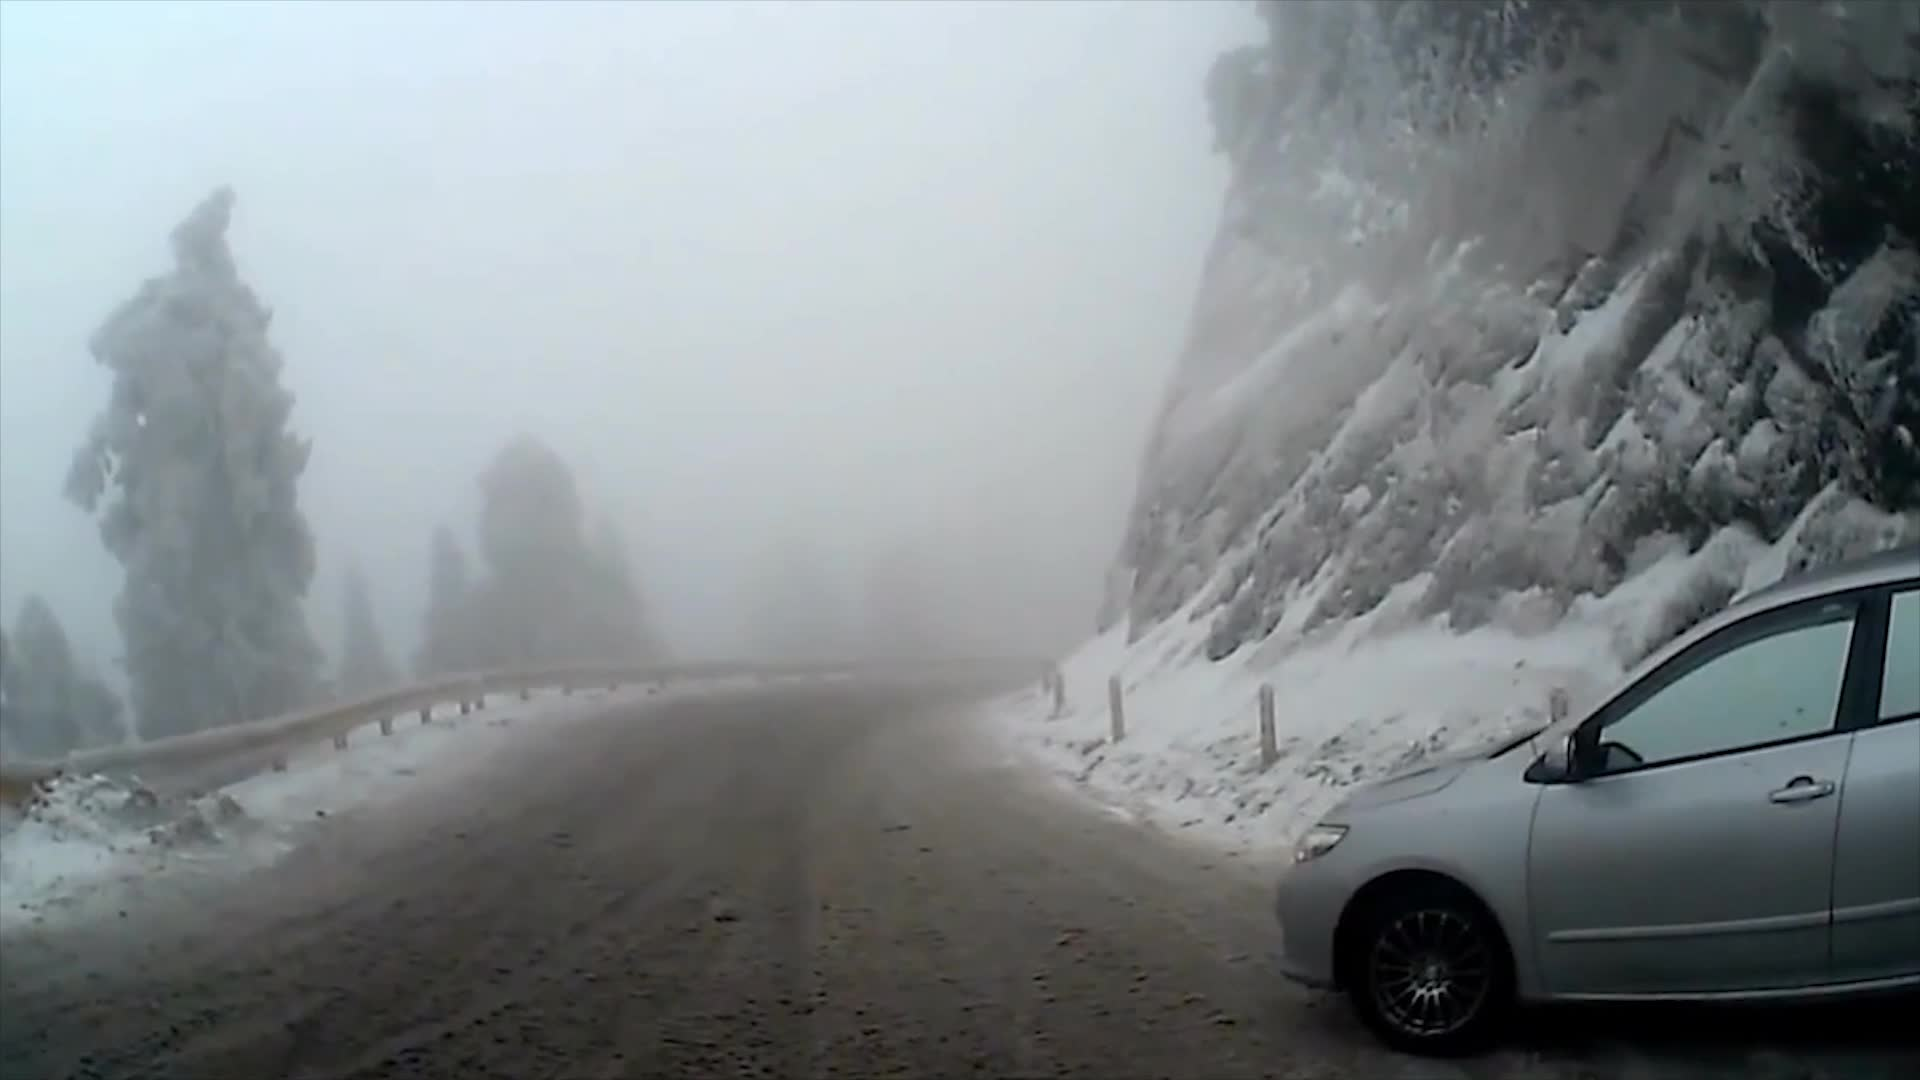vehicle: (1271, 545, 1920, 1062)
